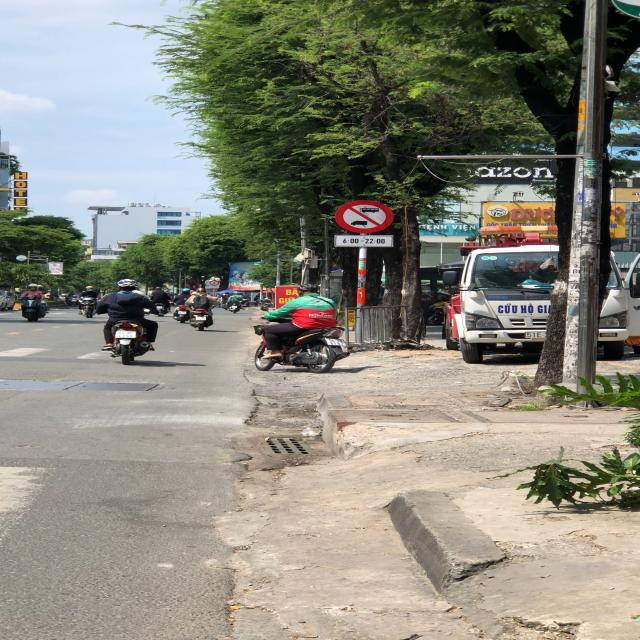Bien bao cam xe oto khach va xe oto tai: (331, 197, 394, 236)
